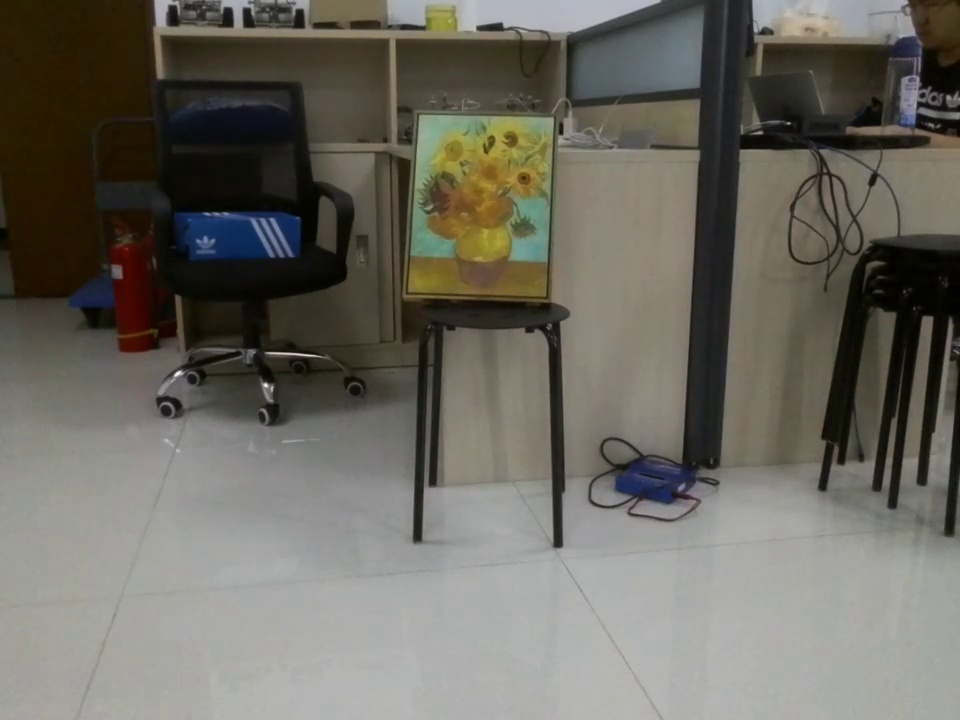painting: (403, 109, 561, 305)
